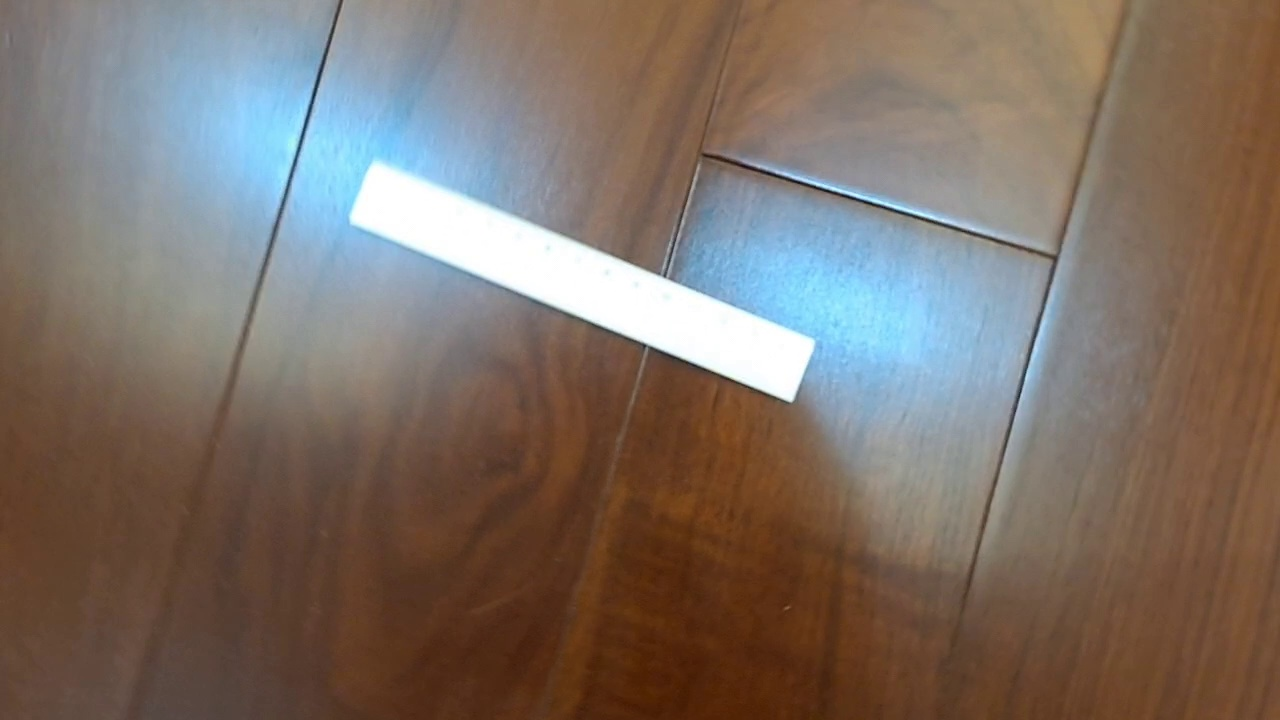ruler: (348, 156, 816, 405)
